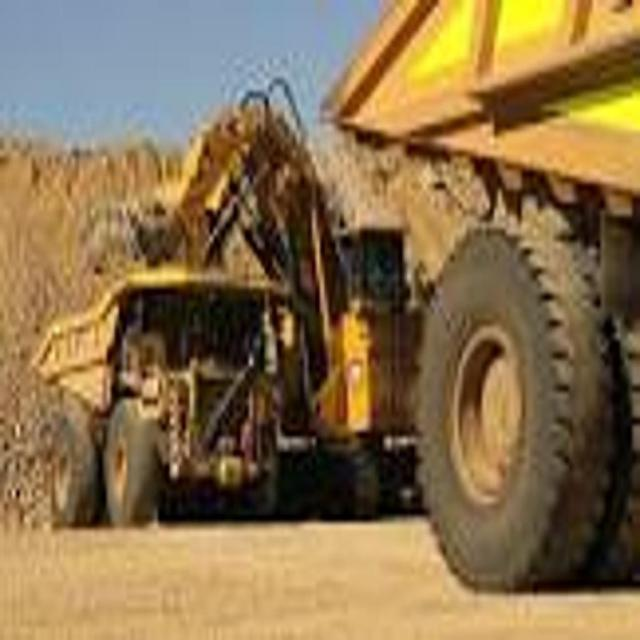dump_truck: (36, 261, 287, 536)
